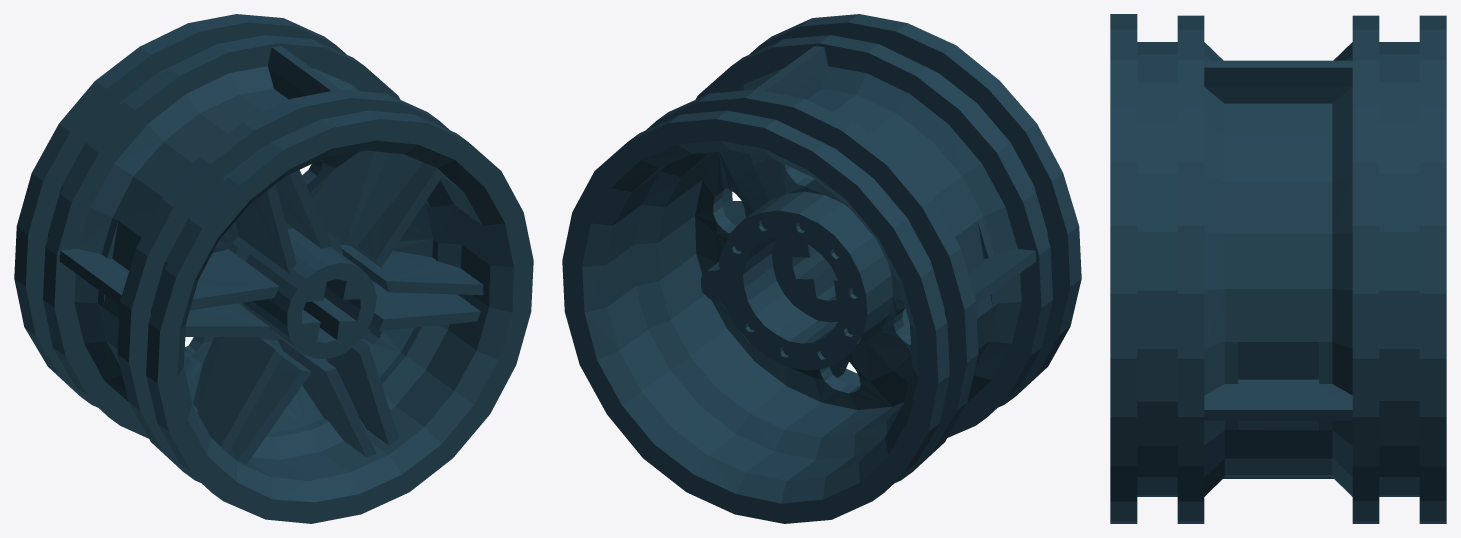
The model's file is reifen.dae.
3 views of the same model, side by side, from view 1: azimuth 30°, elevation 25°; view 2: azimuth 150°, elevation 25°; view 3: azimuth 270°, elevation 25° (orthographic). The views are drawn at different scales.
Visible parts, largest first — view 1: Wheel_Rim_20_x_30_with_6_Spokes_and_External_Ribs__03; view 2: Wheel_Rim_20_x_30_with_6_Spokes_and_External_Ribs__03; view 3: Wheel_Rim_20_x_30_with_6_Spokes_and_External_Ribs__03.
Part boxes in pixels (box(x1,y1,x2,y2)): Wheel_Rim_20_x_30_with_6_Spokes_and_External_Ribs__03: box(14, 14, 533, 523); Wheel_Rim_20_x_30_with_6_Spokes_and_External_Ribs__03: box(562, 14, 1081, 523); Wheel_Rim_20_x_30_with_6_Spokes_and_External_Ribs__03: box(1110, 14, 1446, 523).
Bounding box in the file's own units: 3.03 × 2 × 3.03.
